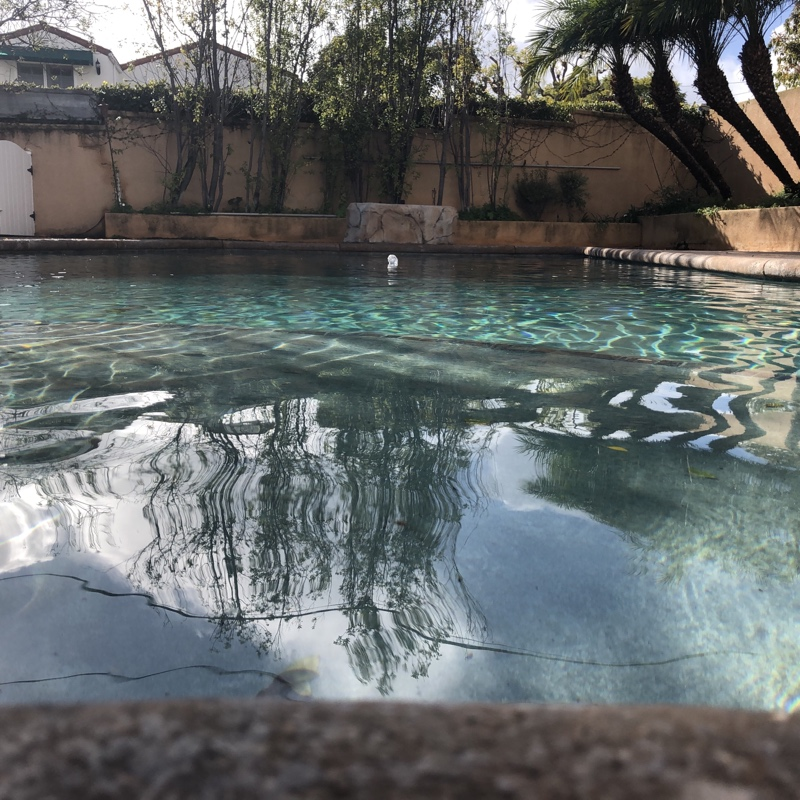Plastic Bottle: (385, 253, 398, 272)
